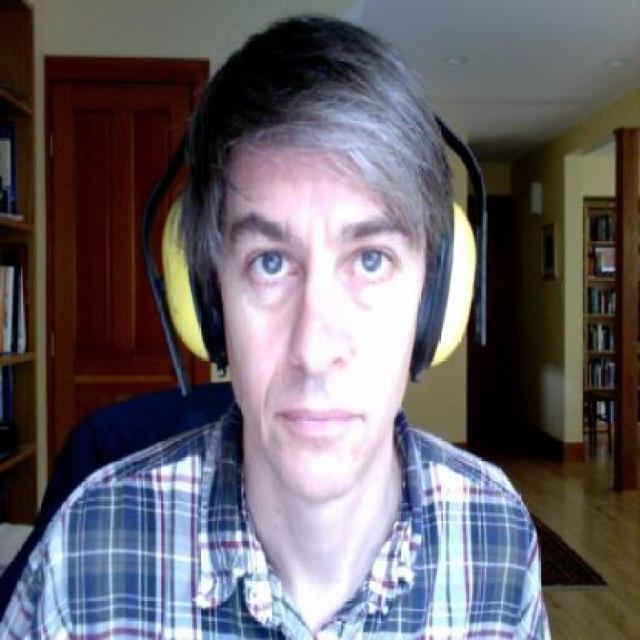earphone: (150, 7, 520, 398)
